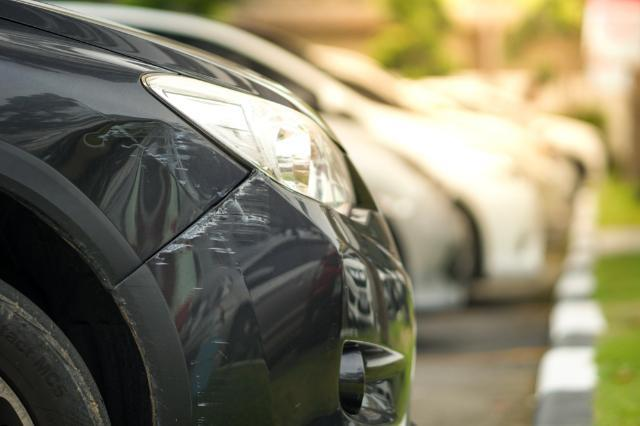dent: (41, 118, 170, 248)
scratch: (150, 170, 273, 269), (162, 123, 207, 187), (191, 359, 214, 420)
